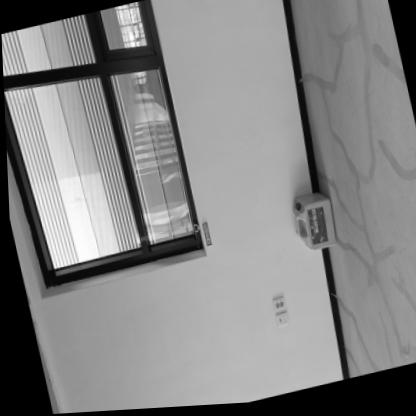DDL: (286, 193, 335, 256)
